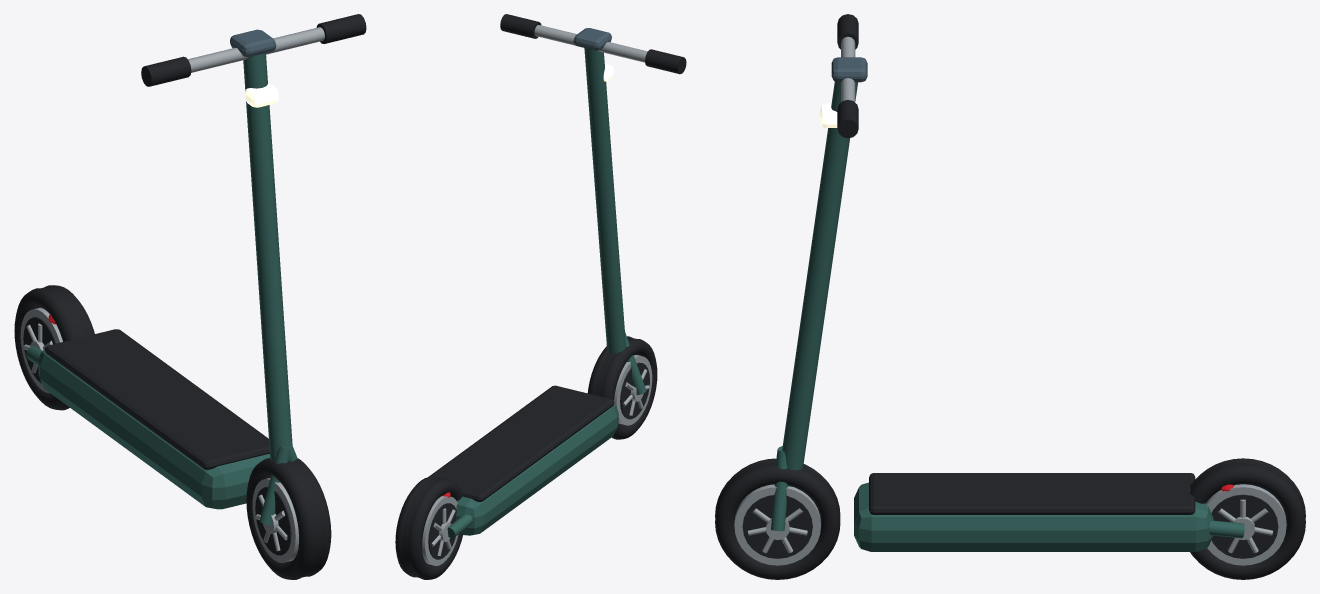
Rendered from E_Scooter.glb.
3 views of the same model, side by side, from view 1: azimuth 30°, elevation 25°; view 2: azimuth 150°, elevation 25°; view 3: azimuth 270°, elevation 25° (orthographic). The views are drawn at different scales.
Visible parts, largest first — view 1: Trittbrett, Lenksaeule, Akkudeck, Rad_Vorne_Mesh, Rad_Hinten_Mesh, Lenker, Griff, Griff.001, Display, Vorderradgabel, Frontlicht; view 2: Trittbrett, Lenksaeule, Rad_Hinten_Mesh, Akkudeck, Rad_Vorne_Mesh, Lenker, Griff, Griff.001, Display, Vorderradgabel; view 3: Akkudeck, Trittbrett, Rad_Vorne_Mesh, Rad_Hinten_Mesh, Lenksaeule, Display, Vorderradgabel.001, Griff.001.
Part boxes in pixels (bbox=[...]): Trittbrett: bbox=[44, 329, 269, 469]; Lenksaeule: bbox=[243, 53, 292, 460]; Akkudeck: bbox=[38, 350, 270, 509]; Rad_Vorne_Mesh: bbox=[246, 458, 331, 579]; Rad_Hinten_Mesh: bbox=[14, 285, 94, 410]; Lenker: bbox=[188, 27, 324, 72]; Griff: bbox=[141, 56, 191, 86]; Griff.001: bbox=[316, 14, 366, 43]; Display: bbox=[230, 29, 276, 57]; Vorderradgabel: bbox=[259, 446, 290, 524]; Frontlicht: bbox=[245, 83, 278, 107]; Trittbrett: bbox=[428, 385, 614, 501]; Lenksaeule: bbox=[584, 48, 625, 353]; Rad_Hinten_Mesh: bbox=[395, 476, 462, 579]; Akkudeck: bbox=[456, 404, 618, 535]; Rad_Vorne_Mesh: bbox=[587, 336, 657, 439]; Lenker: bbox=[534, 25, 647, 62]; Griff: bbox=[645, 49, 686, 74]; Griff.001: bbox=[500, 14, 541, 38]; Display: bbox=[573, 28, 611, 50]; Vorderradgabel: bbox=[625, 332, 646, 394]; Akkudeck: bbox=[854, 482, 1213, 551]; Trittbrett: bbox=[869, 473, 1195, 514]; Rad_Vorne_Mesh: bbox=[715, 458, 840, 579]; Rad_Hinten_Mesh: bbox=[1190, 458, 1305, 579]; Lenksaeule: bbox=[782, 81, 857, 486]; Display: bbox=[831, 57, 867, 82]; Vorderradgabel.001: bbox=[771, 450, 788, 531]; Griff.001: bbox=[837, 100, 858, 138].
Size of the model in its own units: 0.492 by 1.12 by 1.17.
